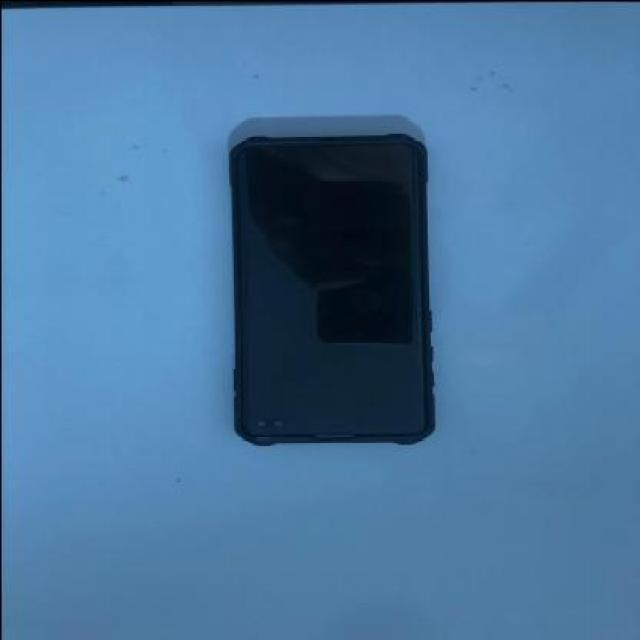phone: (230, 134, 439, 451)
